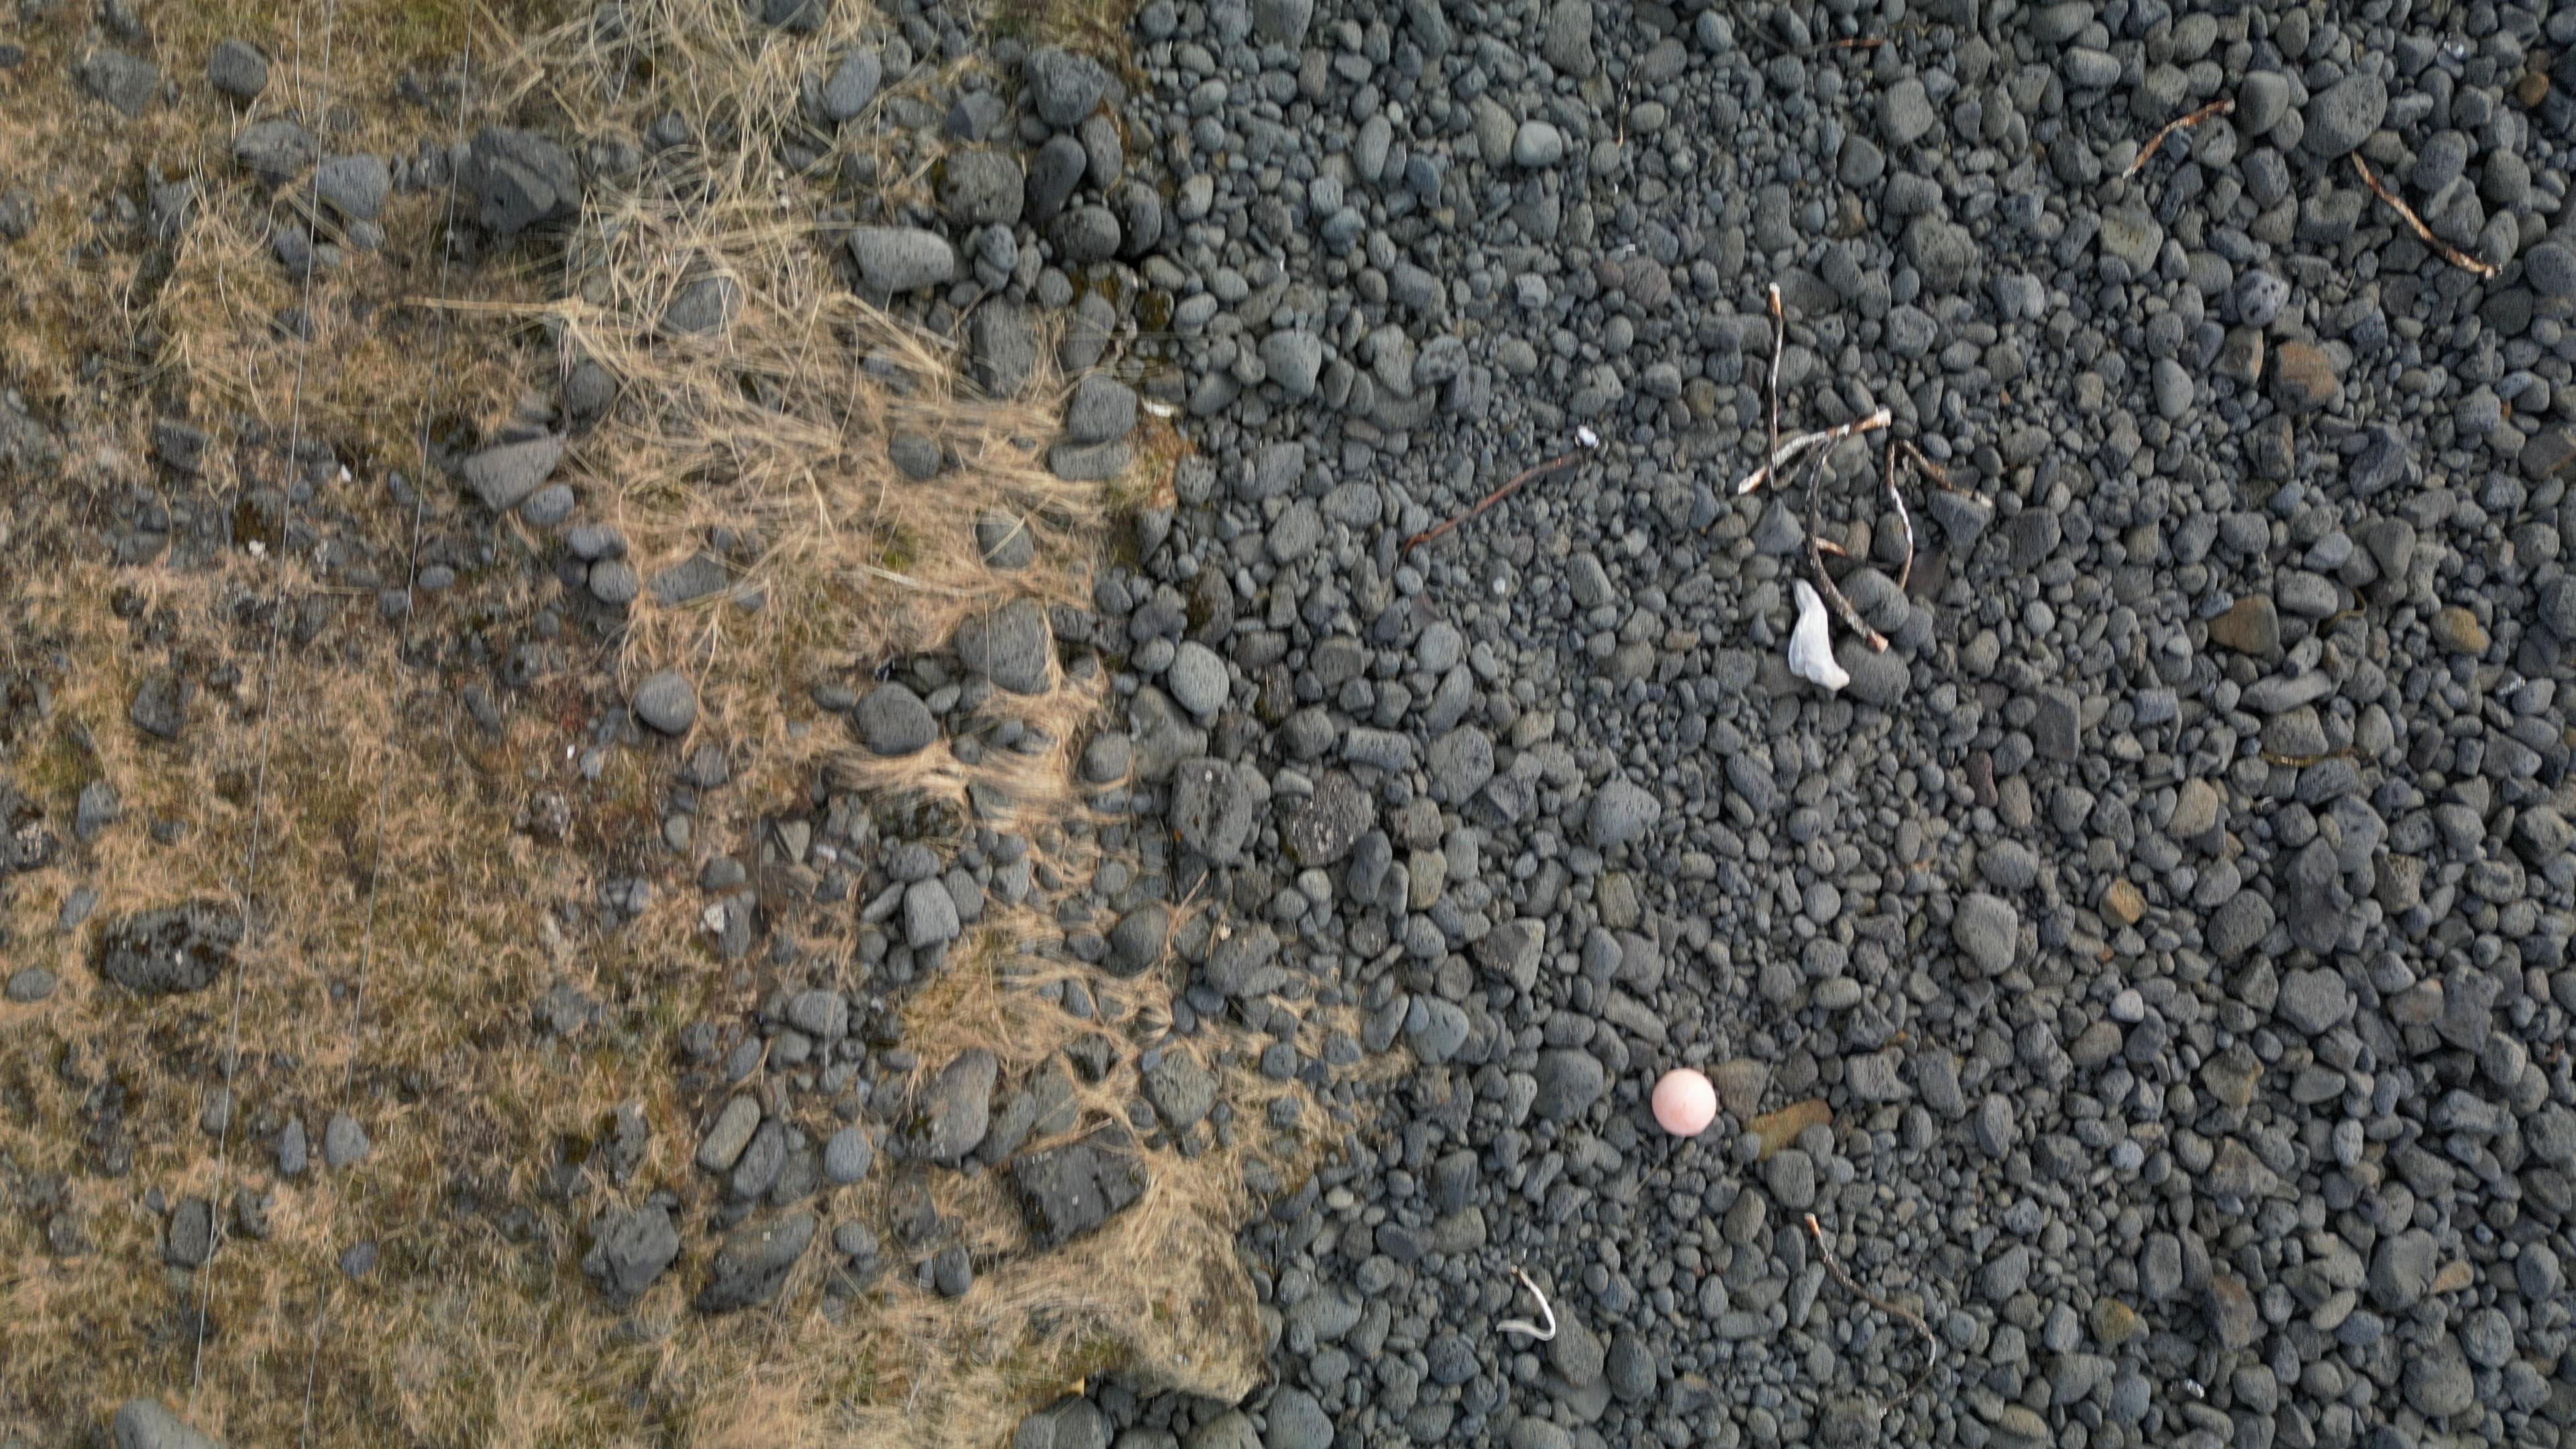trash: (1787, 579, 1847, 690), (1651, 1067, 1716, 1138)
